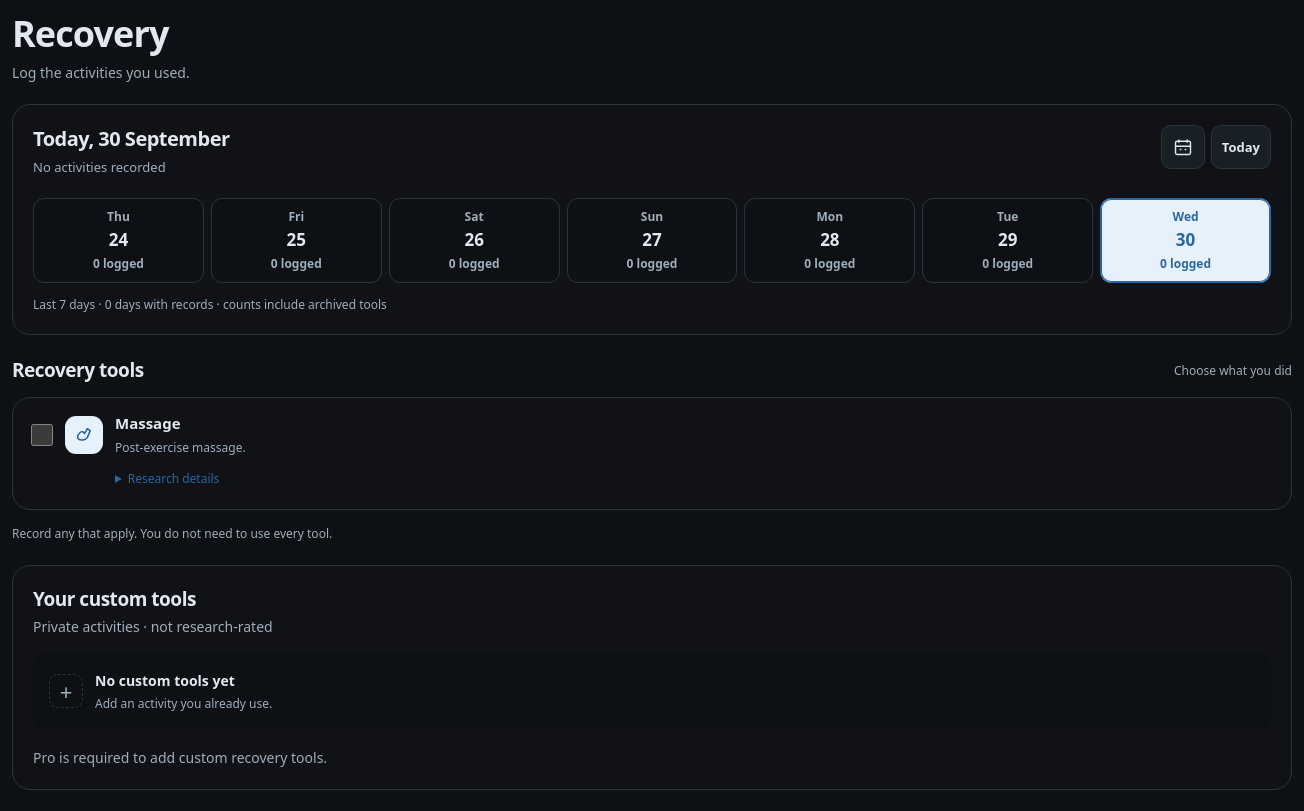
Recovery › keeps the soreness bar and exact evidence inside the tool disclosure
Check: the checkbox labelled "Massage" is shown, box [31,424,53,446]
Click the heading "Research details" at (174, 479), box [128,470,219,487]
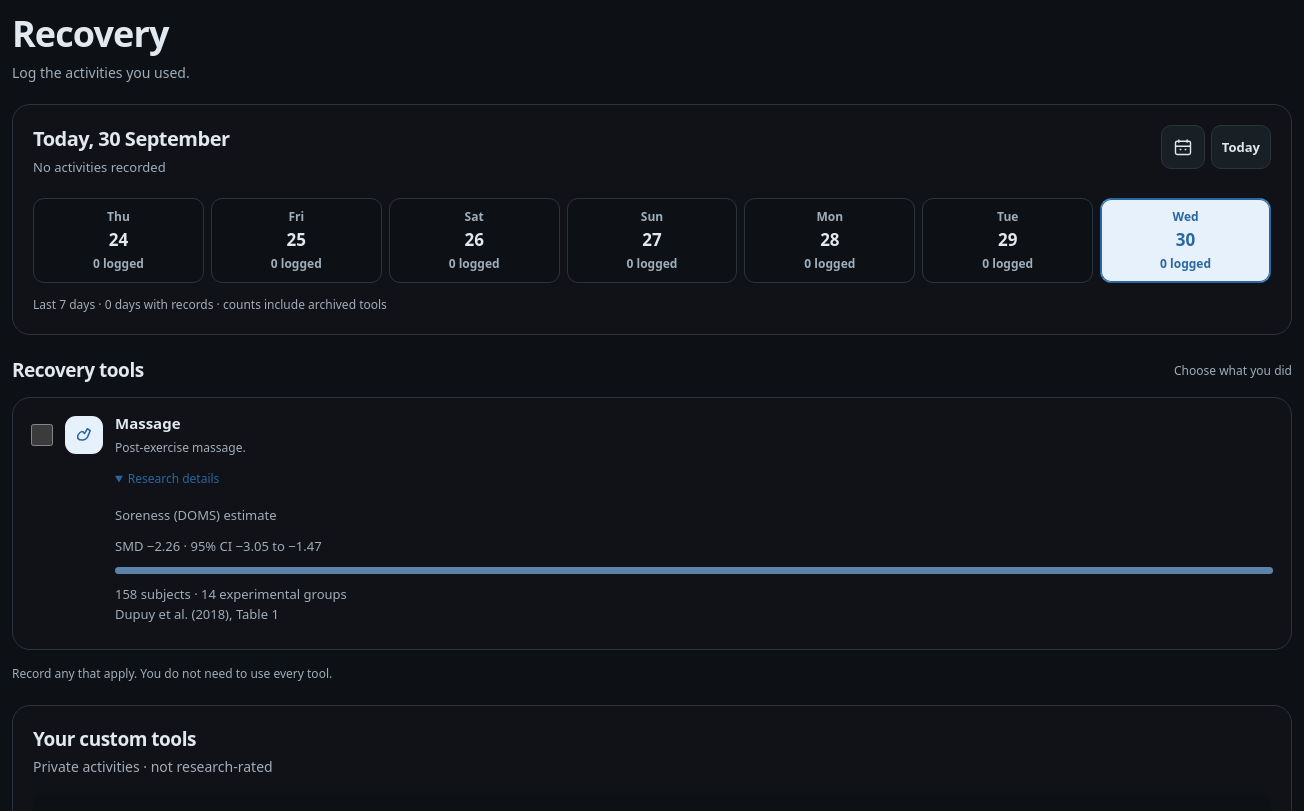
Check: the element with class "recovery-evidence-bar" is shown, box [115,566,1273,574]
Check: the text "158 subjects · 14 experimental groups" is shown, box [115,584,347,623]
